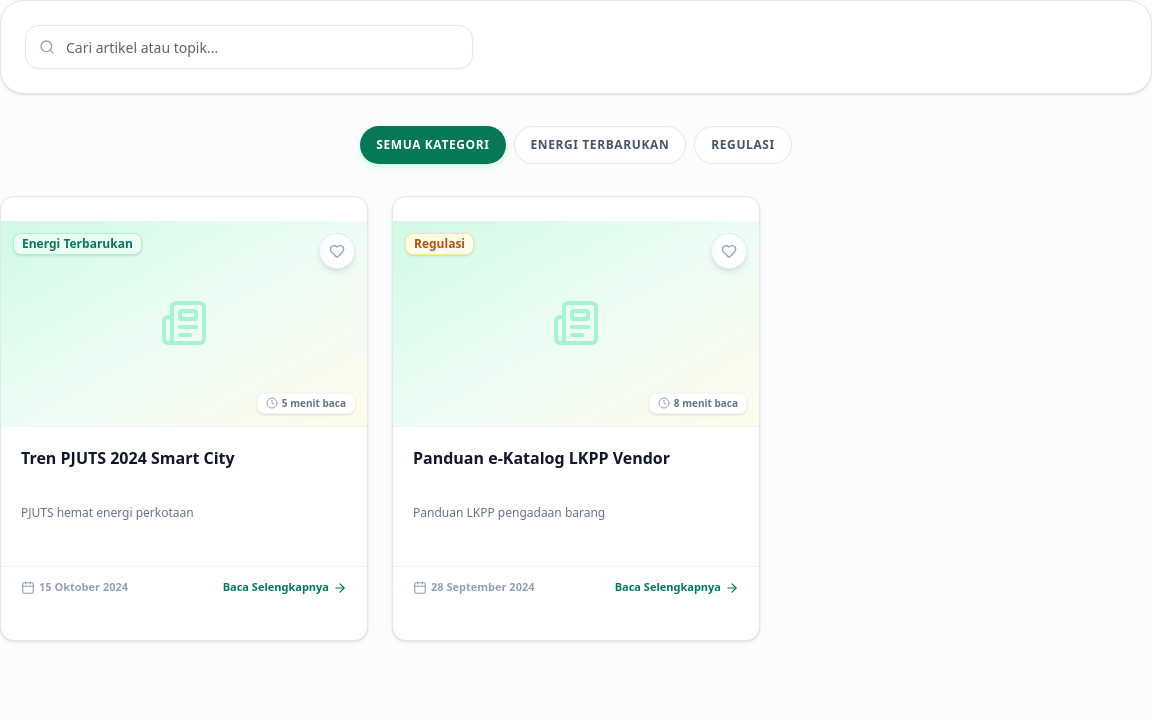
Test: ArticlesPage & Grid Client › filters articles based on search keyword inputs
The image size is (1152, 720).
In the field with placeholder "Cari artikel atau topik...": (249, 47) [25,25,473,69], type "smart city"
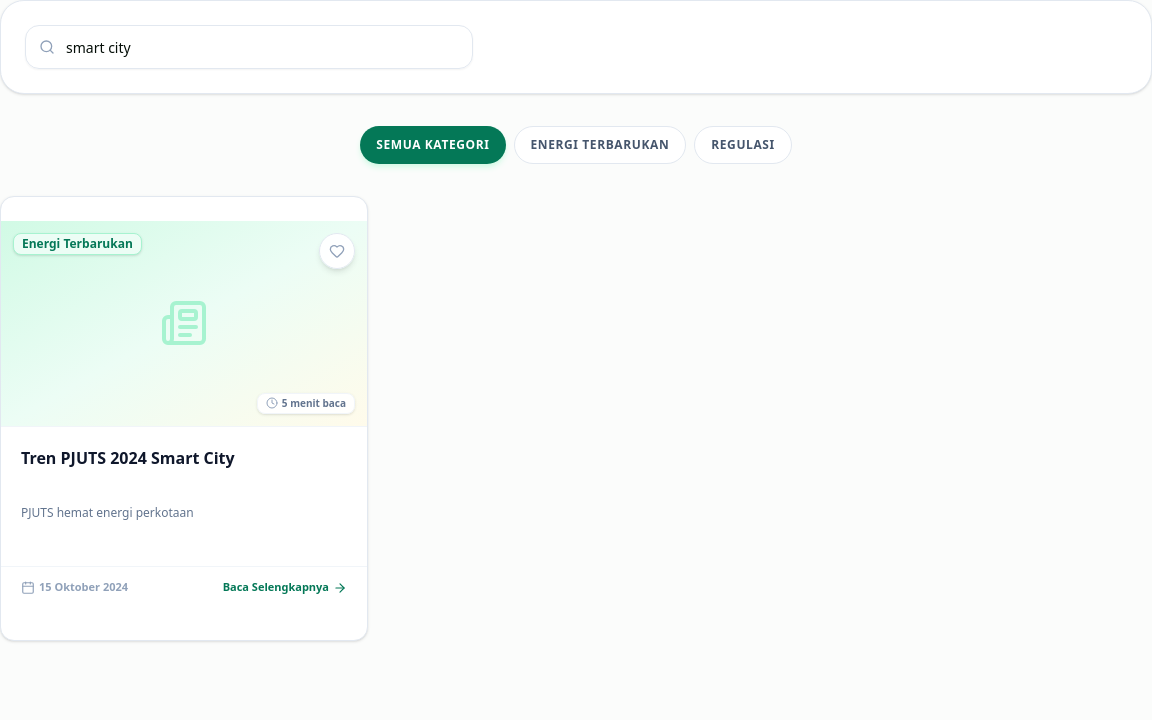
Expected: the link "Tren PJUTS 2024 Smart City" is shown, [21,447,235,469]
Now the link "Panduan e-Katalog LKPP Vendor" is gone
